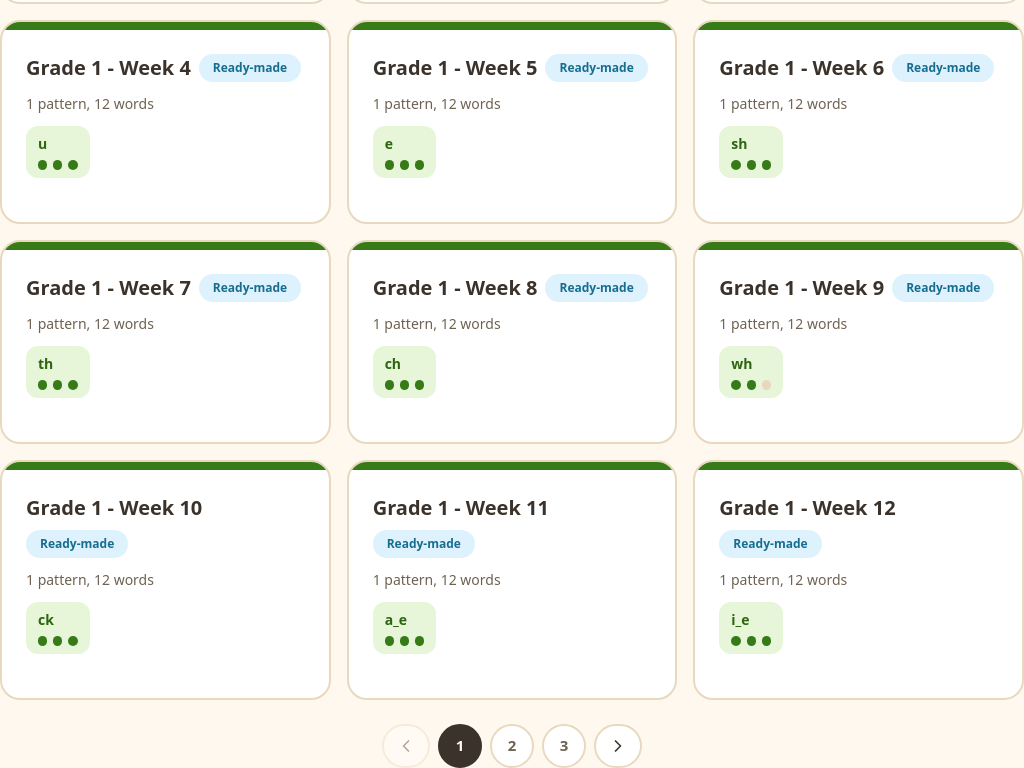
Test: PrebuiltLibrarySection › resets to page 1 when the grade changes
(page scrolled)
What coordinates should you click on to do the following:
click the button named "Go to page 3"
I would click on:
 (564, 746)
Its box is [542,724,586,767].
(page scrolled)
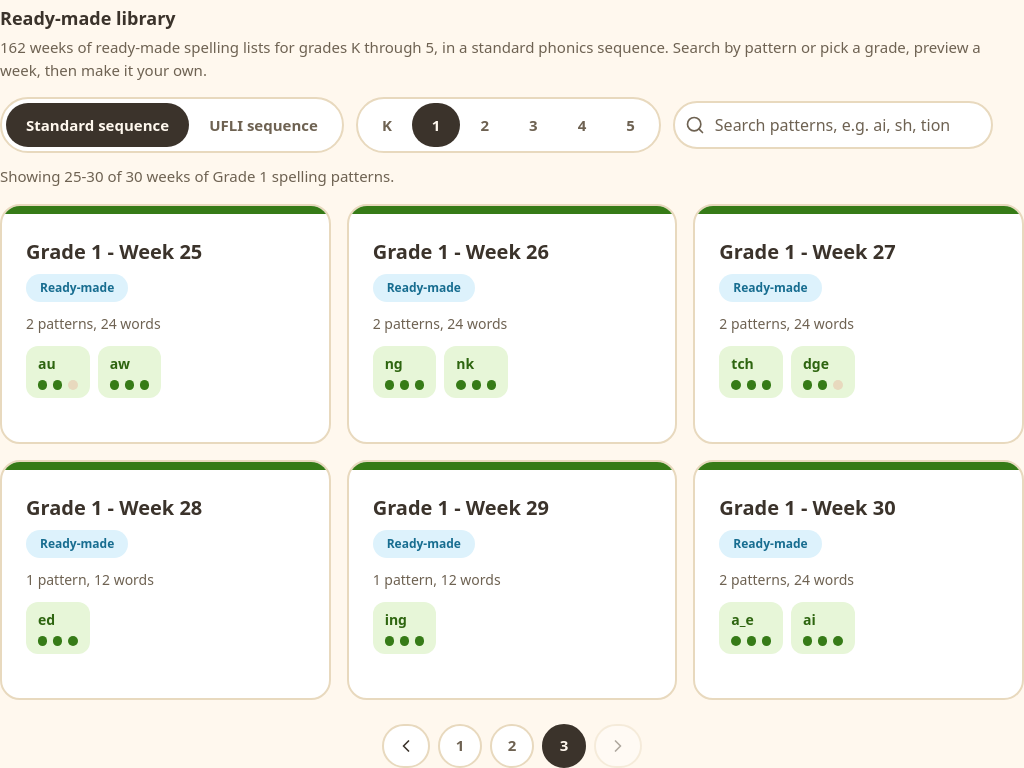
Expected: the text "Showing 25-30 of 30 weeks of Grade 1 spelling patterns." is shown, [0,166,394,186]
What coordinates should you click on to do the following:
click the tab "2"
I would click on:
 (485, 125)
Its box is [460,103,509,147].
(page scrolled)
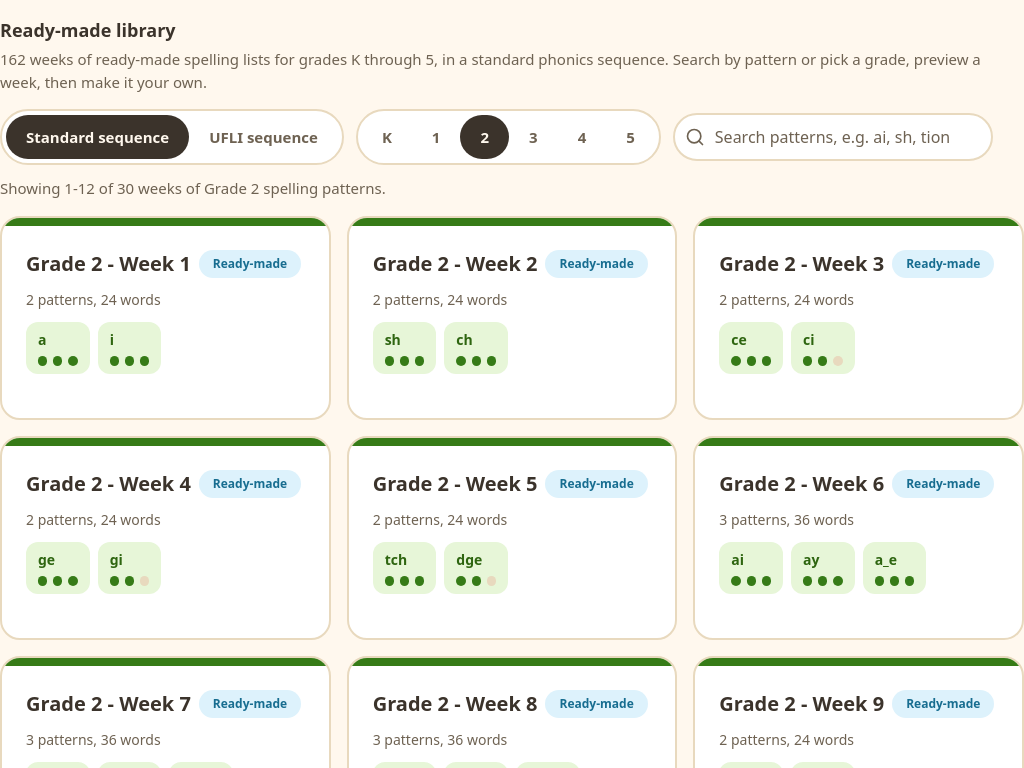
Expected: the text "Showing 1-12 of 30 weeks of Grade 2 spelling patterns." is shown, [0,178,386,198]
Expected: the link named "Preview: Grade 2 - Week 1" is shown, [2,218,329,418]
